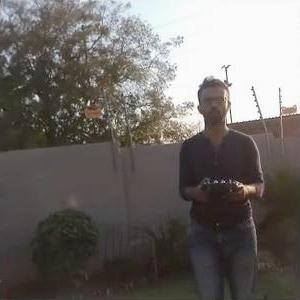follow: (177, 69, 269, 298)
